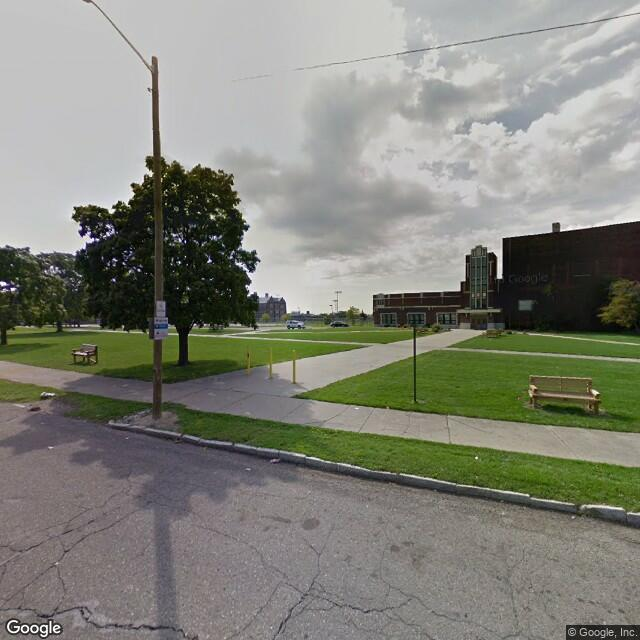litter: (264, 458, 288, 463), (39, 391, 55, 398), (471, 454, 481, 460)
